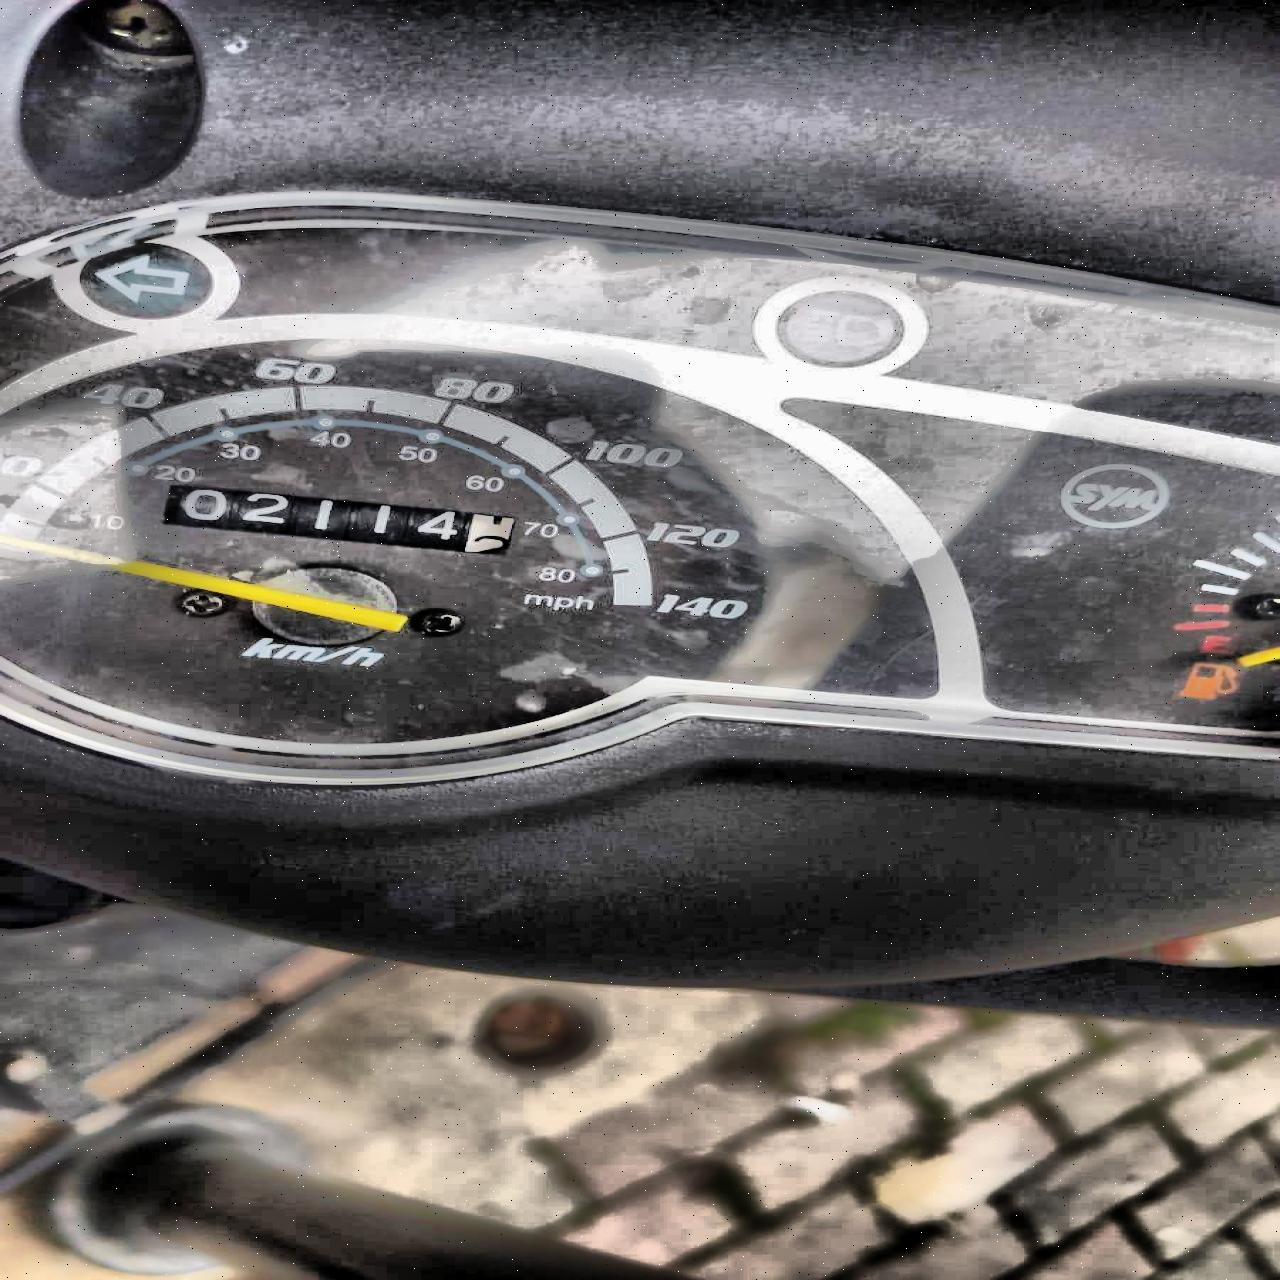0: (181, 488, 227, 522)
1: (305, 495, 336, 531), (370, 503, 394, 535)
2: (241, 490, 288, 525), (471, 531, 513, 554)
4: (415, 506, 461, 543)
odometer: (155, 485, 520, 558)
